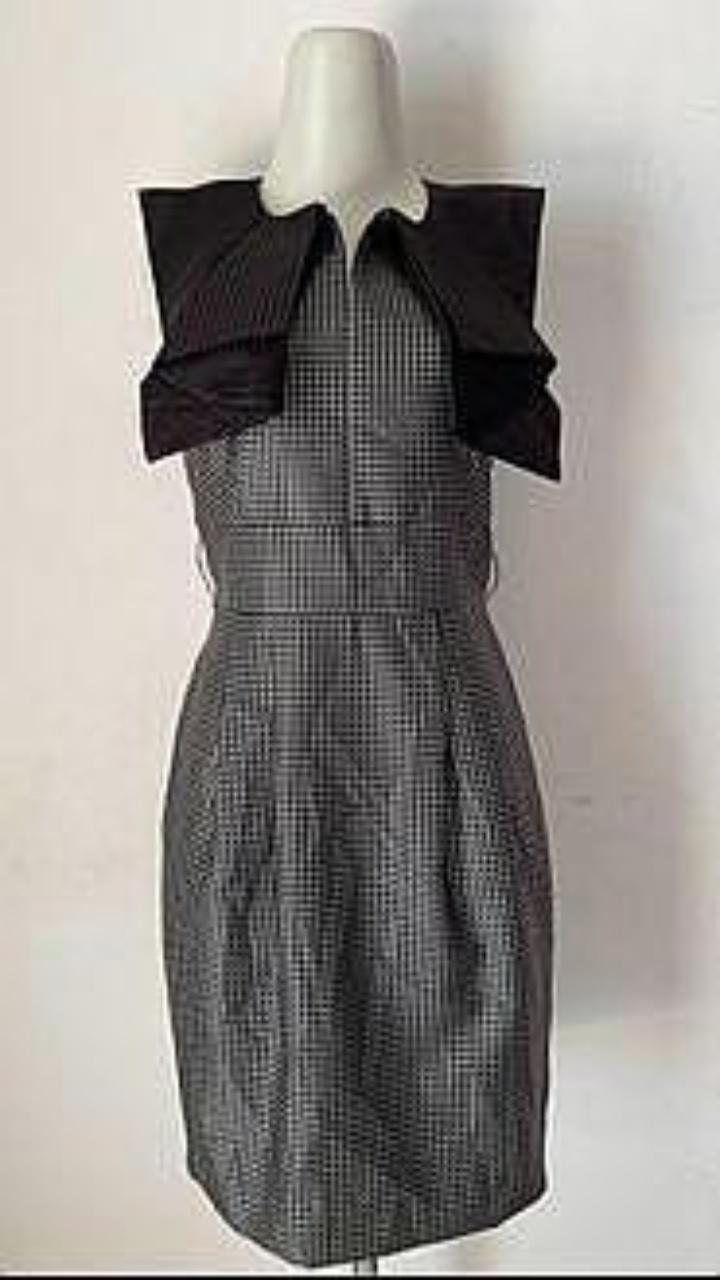Dresses: (142, 178, 557, 1265)
